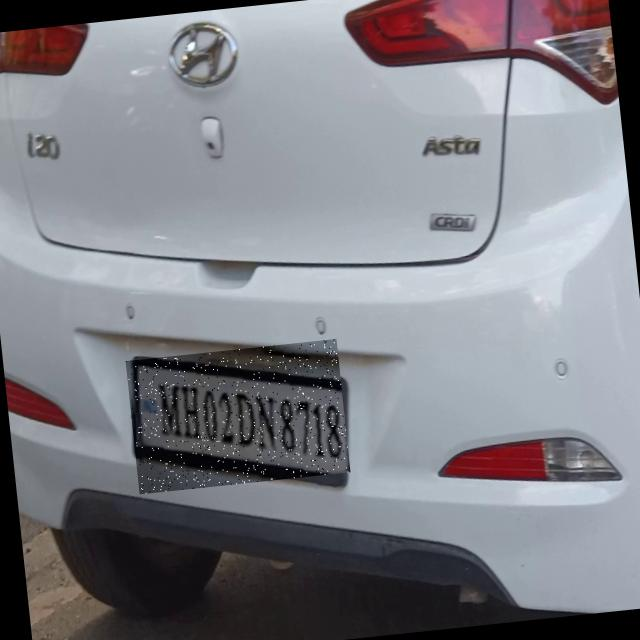Plate: (126, 340, 351, 495)
